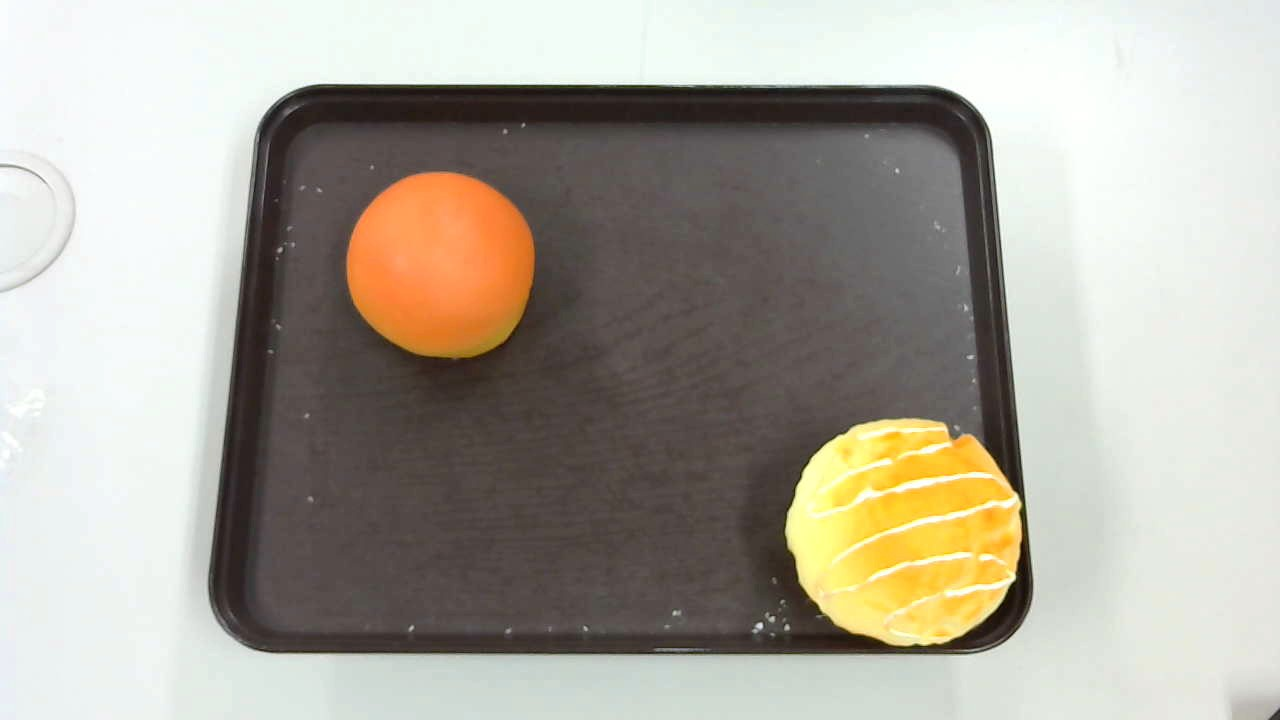bun: (346, 172, 536, 358)
cupcake: (784, 416, 1021, 649)
